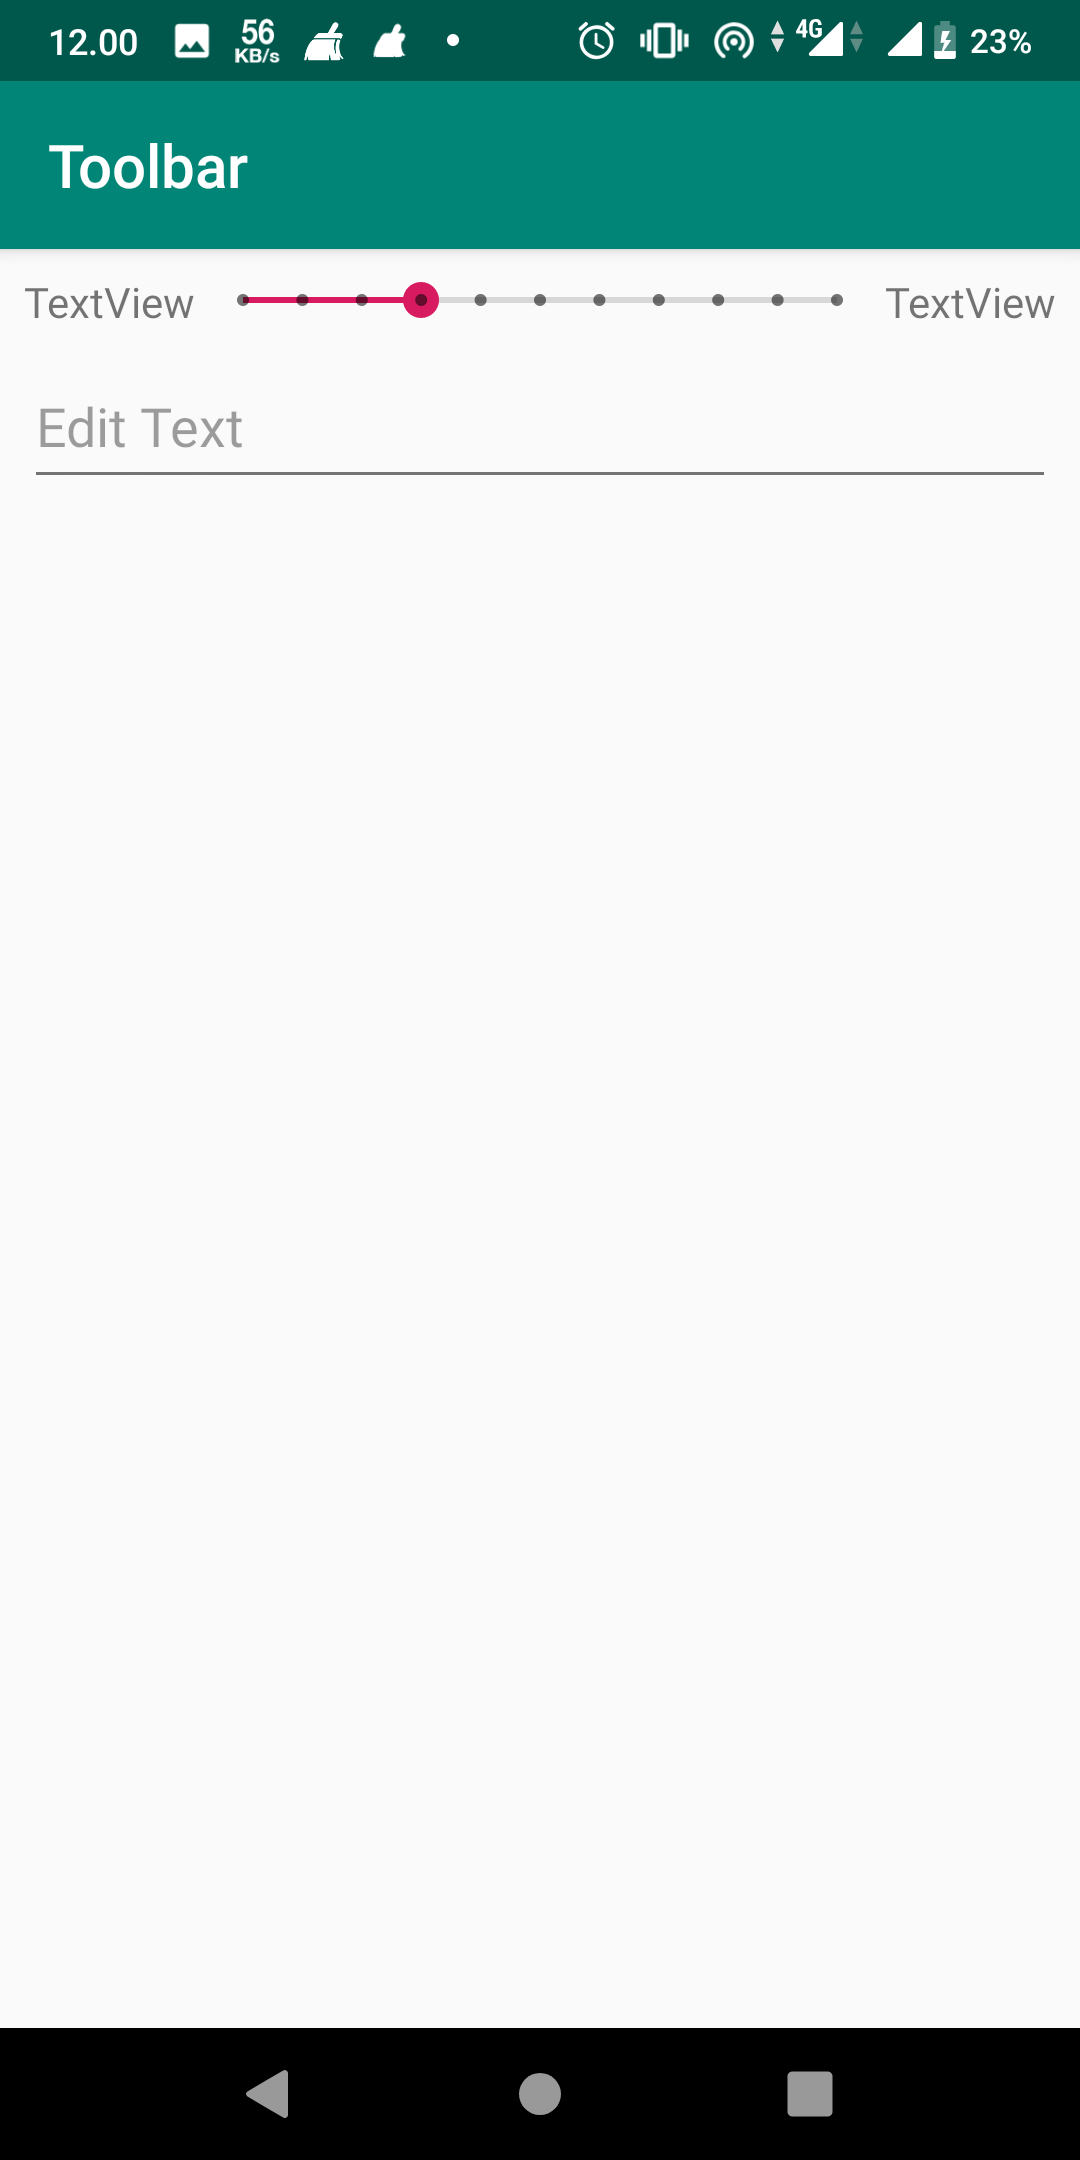editText: (28, 390, 1070, 493)
slider: (229, 280, 857, 320)
textView: (19, 273, 209, 335), (890, 277, 1061, 331)
toolbar: (6, 90, 1079, 237)
